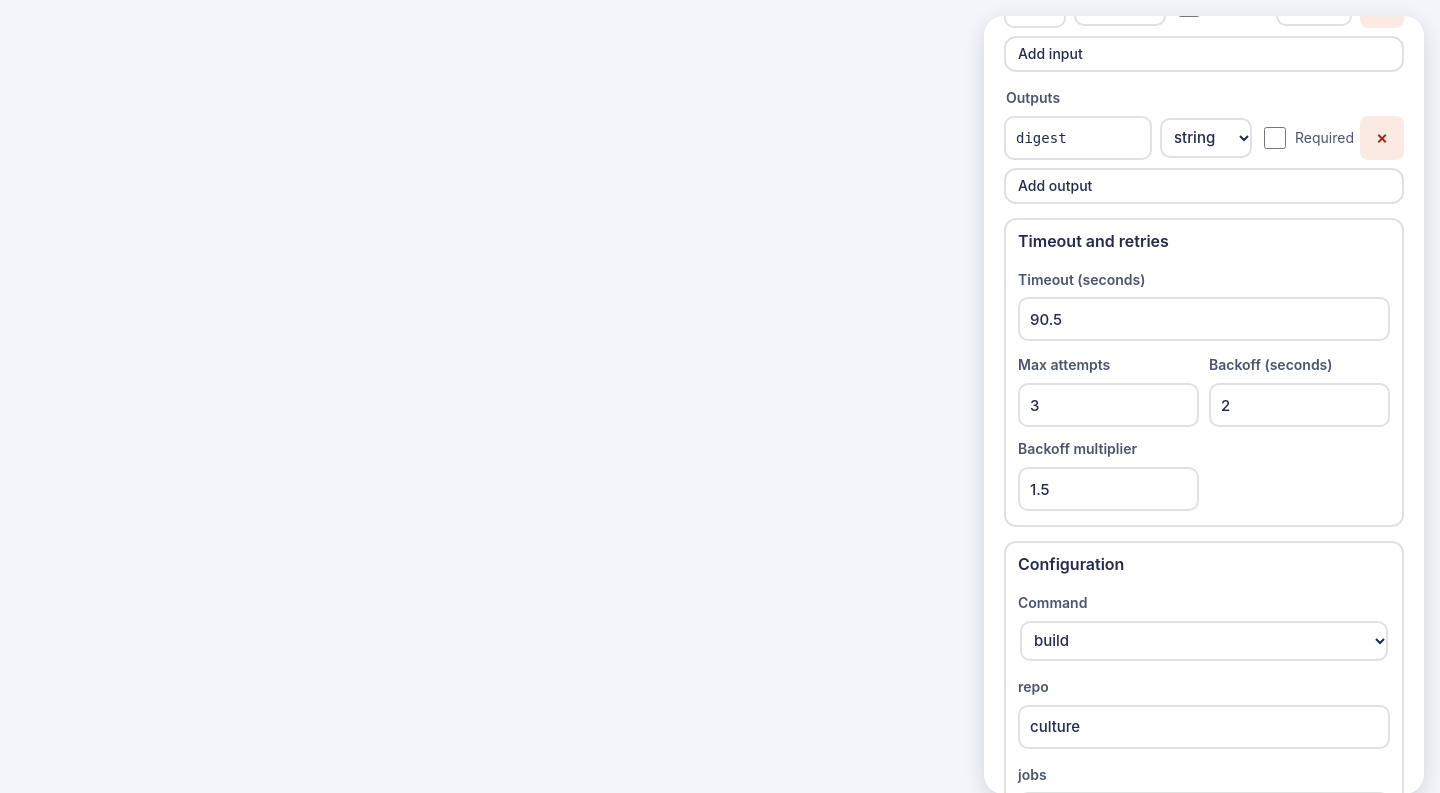
Test: StepEditor: guided validation › rejects Backoff (seconds) = -1
(page scrolled)
Replace the text in the field labelled "Backoff (seconds)" with "-1" at (1300, 405), box [1209,383,1390,427]
(page scrolled)
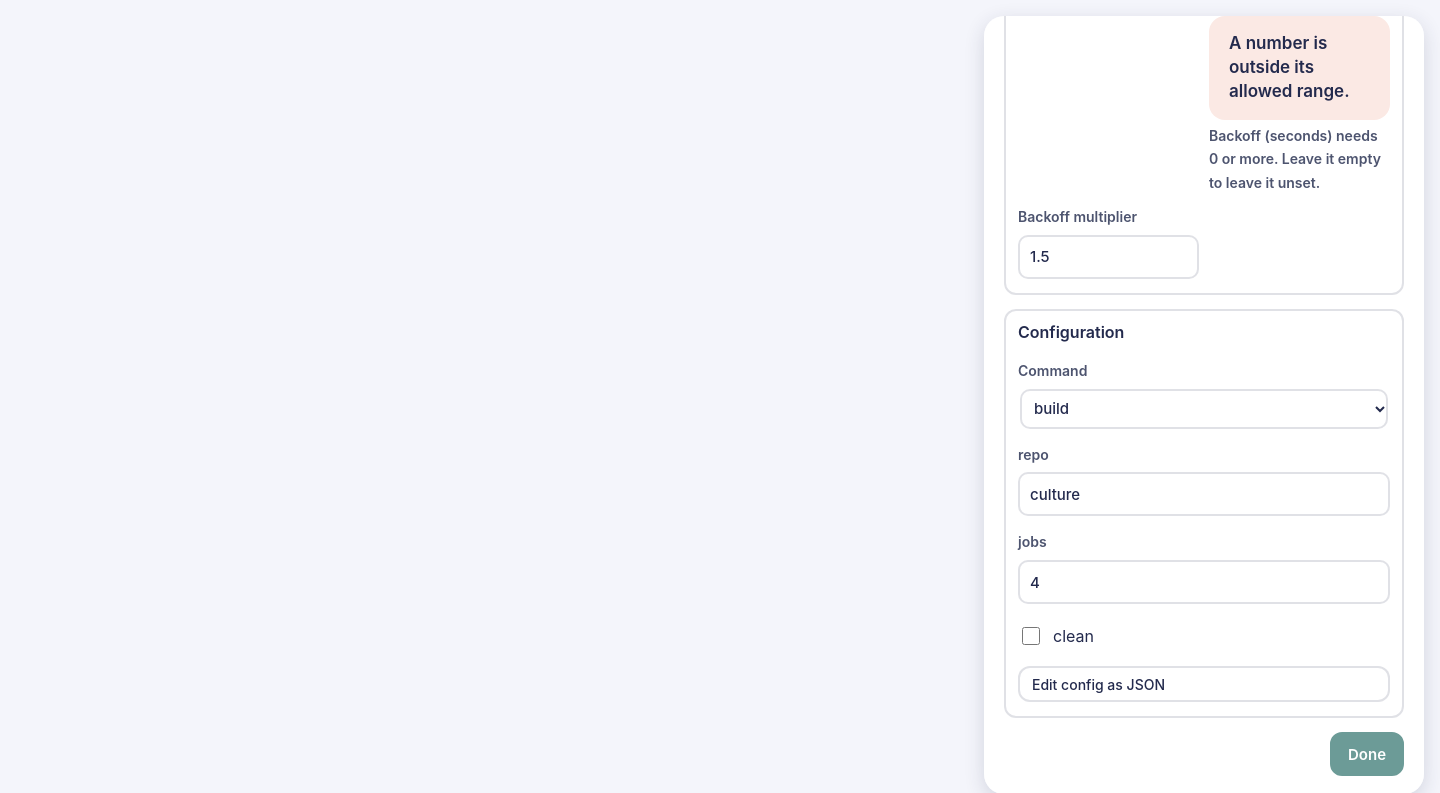
expect the message "A number is outside its allowed range." is shown: met, box [1209,16,1390,120]
expect the button "Done" is disabled: met, box [1330,732,1404,776]
